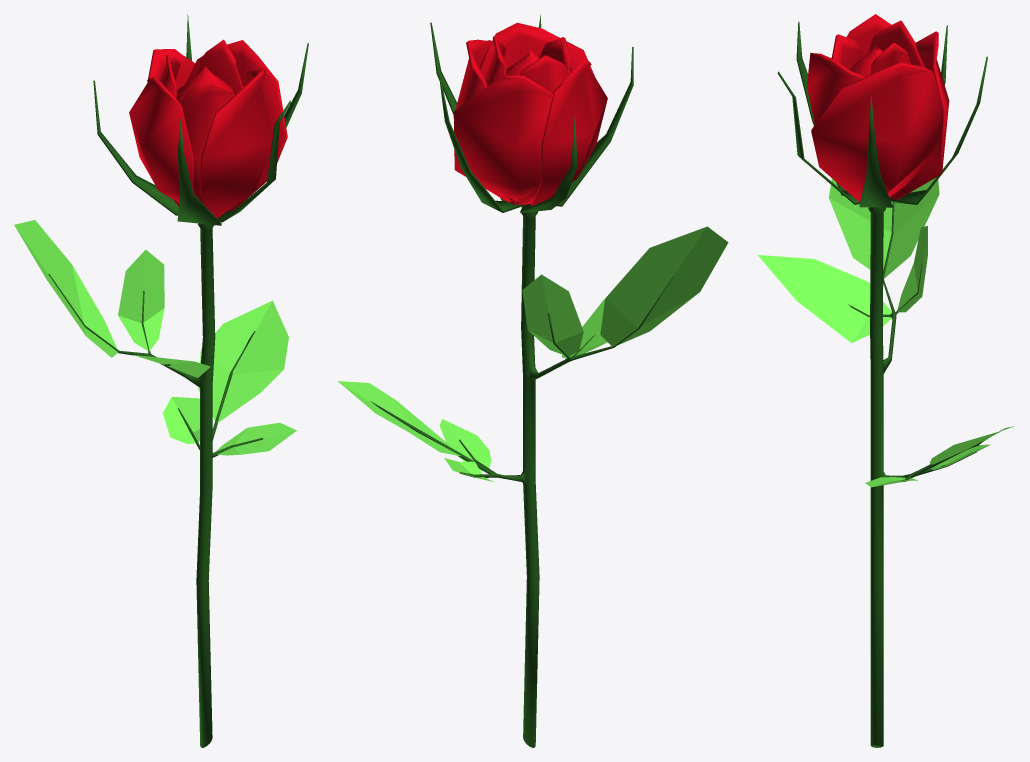
The model's file is Rose.fbx.
3 views of the same model, side by side, from view 1: azimuth 30°, elevation 25°; view 2: azimuth 150°, elevation 25°; view 3: azimuth 270°, elevation 25° (orthographic). The views are drawn at different scales.
Visible parts, largest first — view 1: Rose; view 2: Rose; view 3: Rose.
Boxes of the visible parts, x1,y1,x2,y2 form: Rose: (14, 14, 308, 747); Rose: (338, 15, 728, 747); Rose: (758, 14, 1013, 747).
Bounding box in the file's own units: 28.87 × 61.79 × 20.03.
